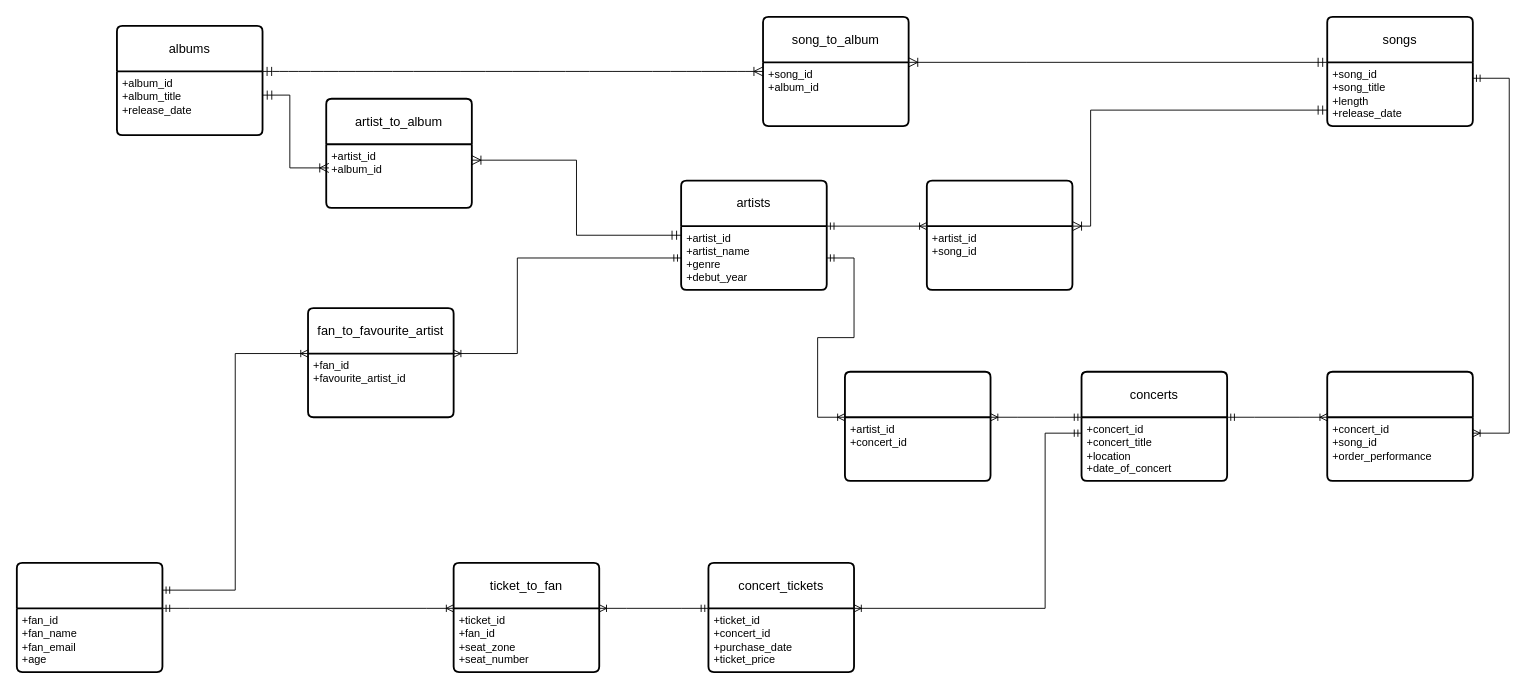
Image size: 1533x688. Some labels were removed from this diagram. Here are the shapes that lost their labels. From the top down, the box of each, then its label:
(925, 179, 1073, 290): artist_to_song
(844, 370, 991, 481): artist_to_concert
(1326, 370, 1473, 481): concert_to_songs
(15, 561, 163, 672): fans
